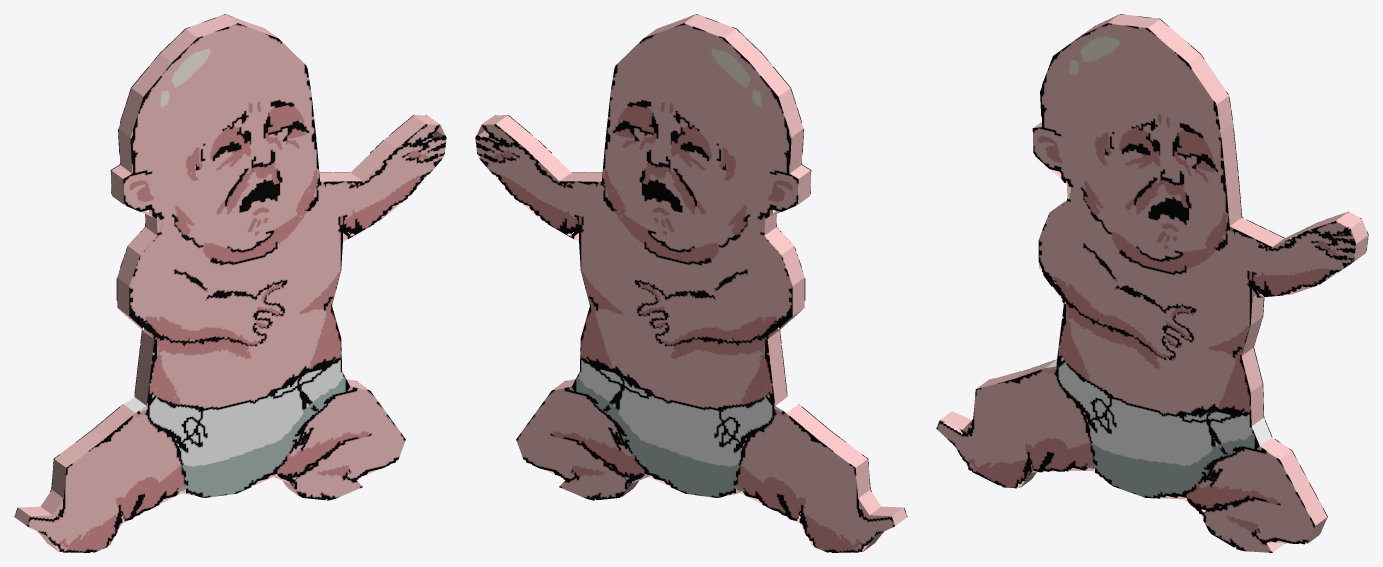
The model's file is baby3D.fbx.
3 renders of one model, left to right at view 1: azimuth 30°, elevation 25°; view 2: azimuth 150°, elevation 25°; view 3: azimuth 330°, elevation 25°, orthographic.
Parts seen in each view (by area): view 1: Plane; view 2: Plane; view 3: Plane.
Boxes of the visible parts, x1,y1,x2,y2 form: Plane: (14,14,446,552); Plane: (475,14,907,552); Plane: (936,14,1368,552).
Bounding box in the file's own units: 351 × 400 × 18.81.
Materials: 1 (1 with a texture image).
